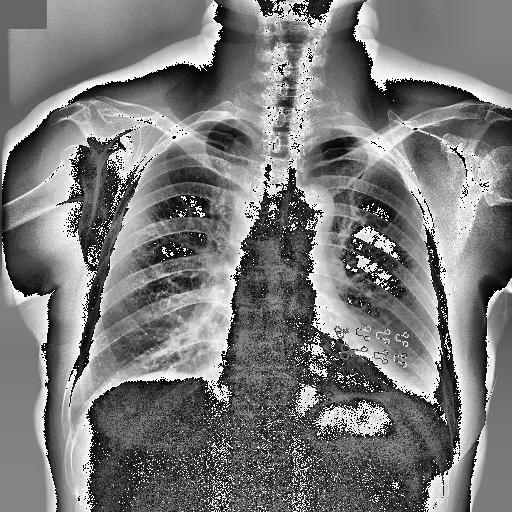0- Aortic enlargement: (280, 184, 334, 258), (282, 182, 336, 240), (284, 186, 334, 233)
3- Cardiomegaly: (216, 346, 410, 408), (216, 336, 416, 396)
